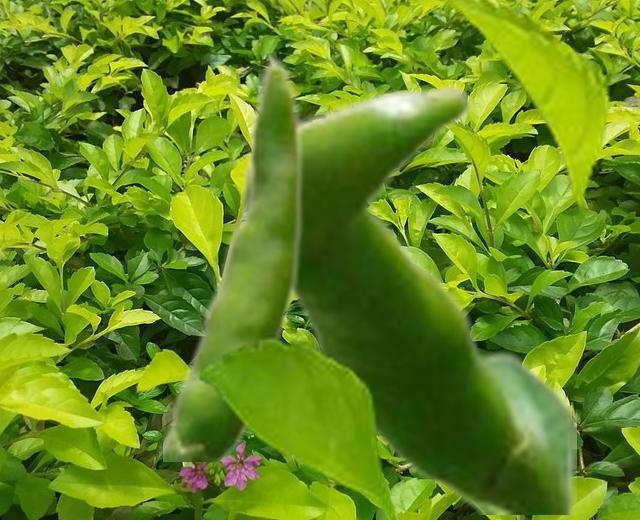green_chili: (239, 84, 575, 513), (163, 57, 304, 460)
